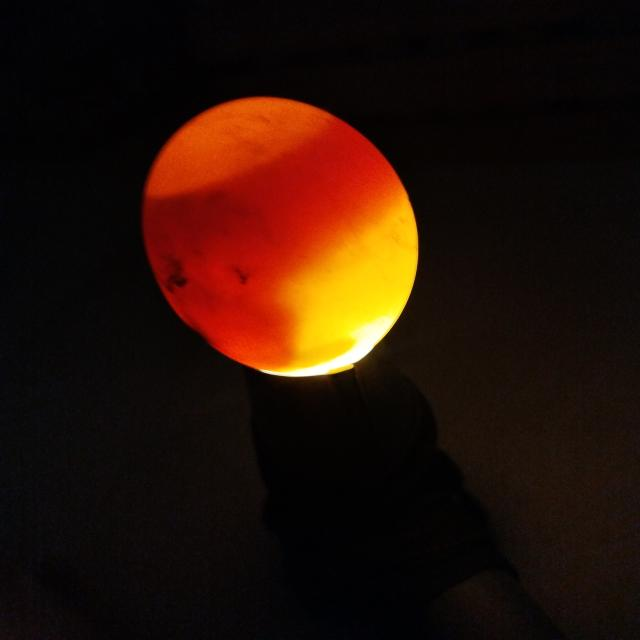Area Infectada: (141, 194, 267, 342)
